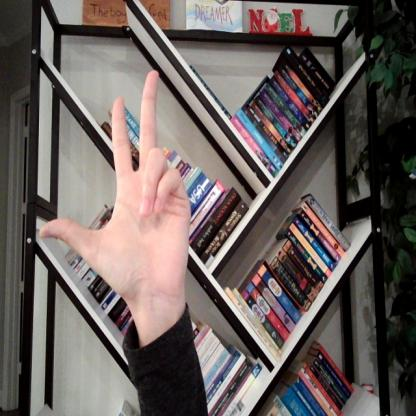three: (30, 66, 194, 317)
